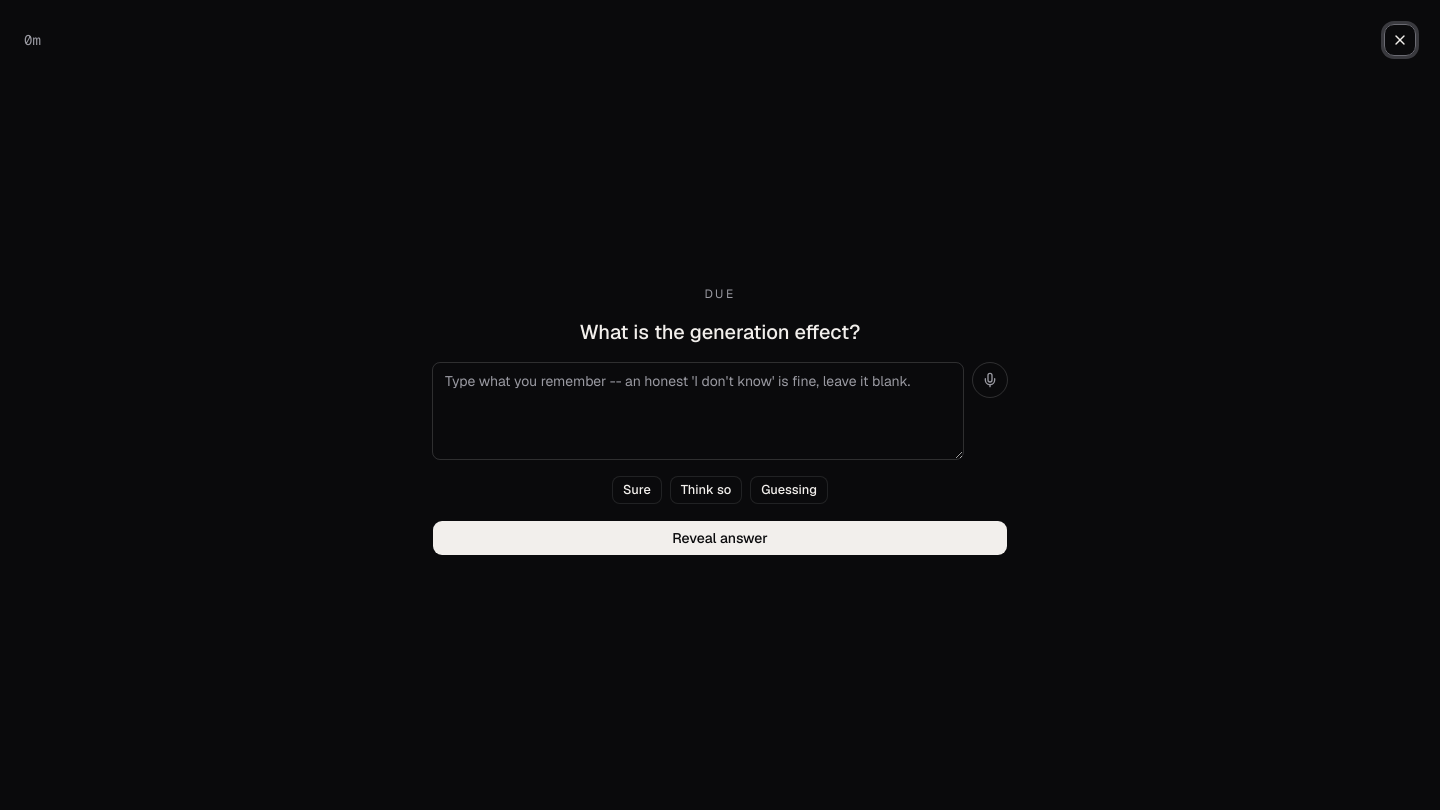
RetrievalSessionOverlay › feedback an agent attached to an earlier answer shows on the card, marks itself seen, and is only a suggestion
The image size is (1440, 810).
Expected: the text "What is the generation effect?" is shown, [580, 319, 860, 345]
Click the button "Reveal answer".
click(720, 538)  # box [432, 520, 1008, 556]
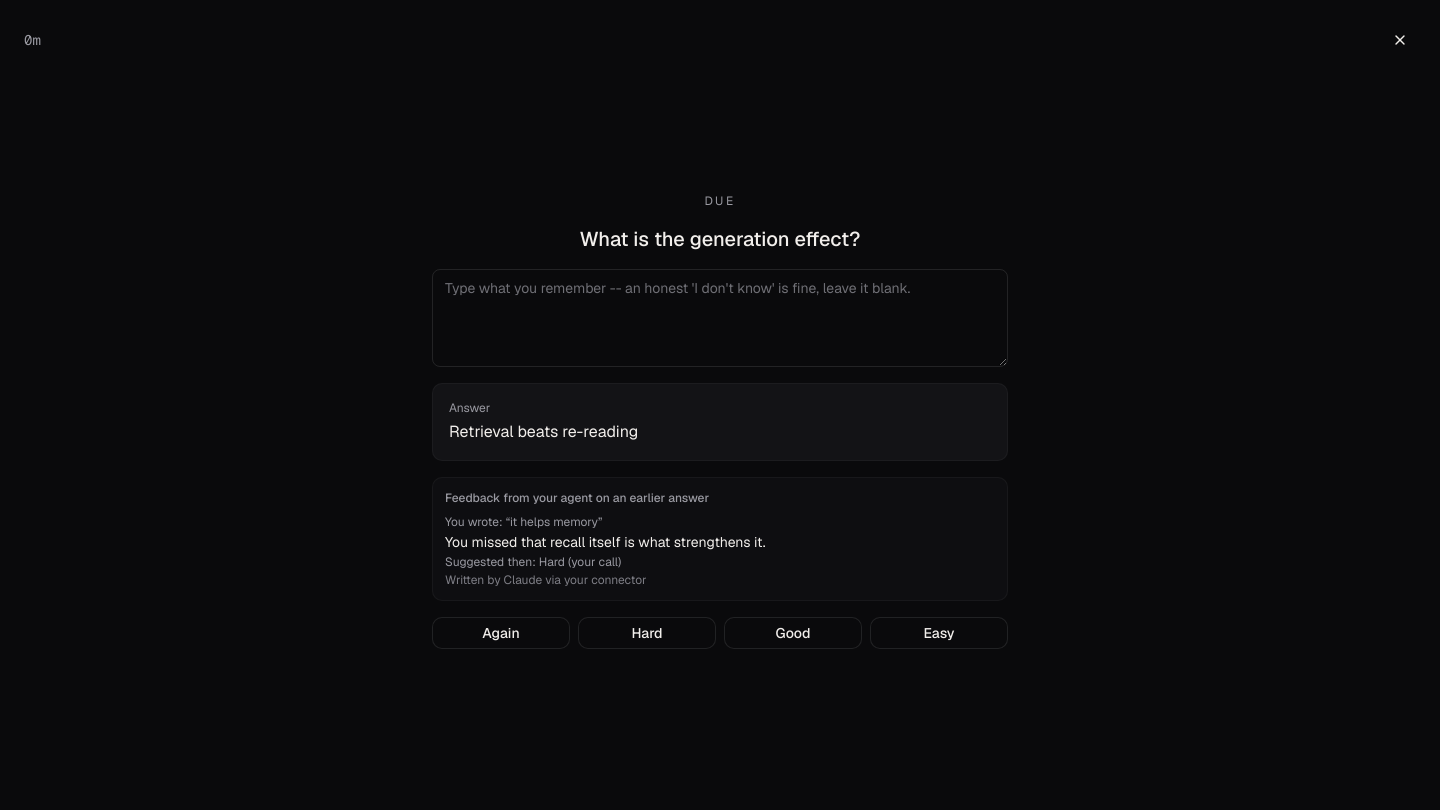
Expected: the text "Retrieval beats re-reading" is shown, [449, 421, 638, 442]
Expected: the element with test id "agent-feedback-notes" shows "You missed that recall itself is what strengthens it.", [445, 533, 766, 551]
Expected: the element with test id "agent-feedback-notes" shows "Suggested then: Hard (your call)", [432, 477, 1008, 601]
